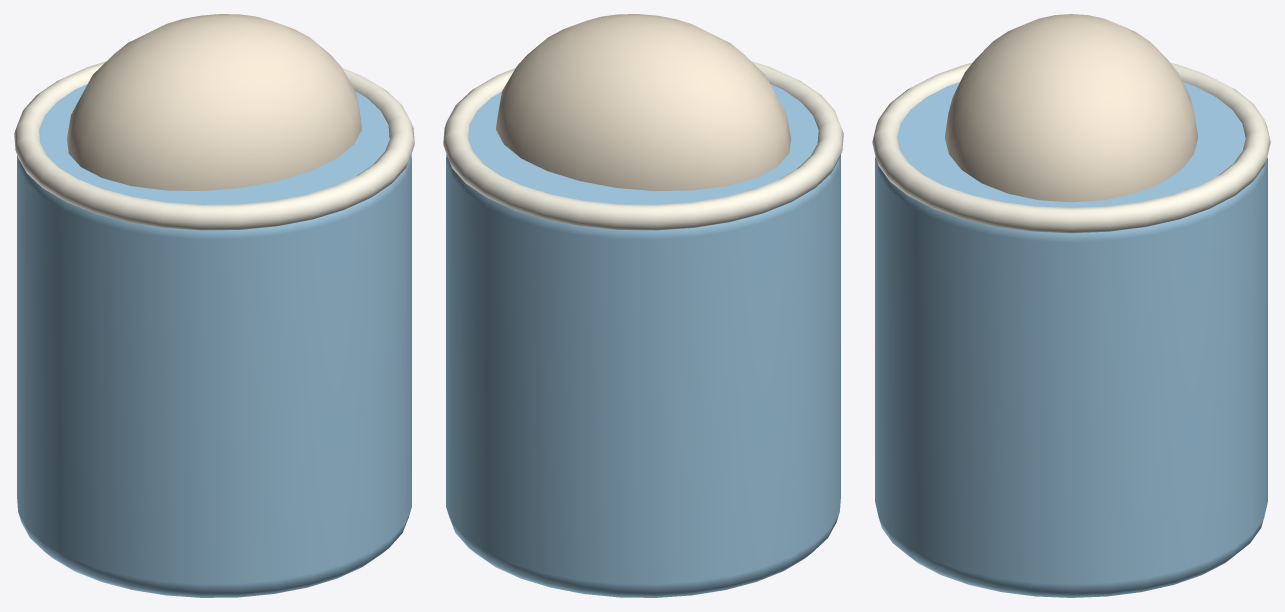
The model's file is officeTrashFull.glb.
3 renders of one model, left to right at view 1: azimuth 30°, elevation 25°; view 2: azimuth 150°, elevation 25°; view 3: azimuth 270°, elevation 25°, orthographic.
Visible parts, largest first — view 1: Bin, Crumpled paper, Bin rim; view 2: Bin, Crumpled paper, Bin rim; view 3: Bin, Crumpled paper, Bin rim.
Part boxes in pixels (bbox=[...]): Bin: bbox=[17, 84, 411, 597]; Crumpled paper: bbox=[66, 14, 361, 190]; Bin rim: bbox=[14, 61, 414, 230]; Bin: bbox=[446, 84, 840, 597]; Crumpled paper: bbox=[496, 14, 791, 190]; Bin rim: bbox=[443, 61, 843, 230]; Bin: bbox=[875, 82, 1267, 597]; Crumpled paper: bbox=[944, 14, 1198, 202]; Bin rim: bbox=[872, 62, 1270, 233].
Size of the model in its own units: 0.75 by 1.02 by 0.75.
